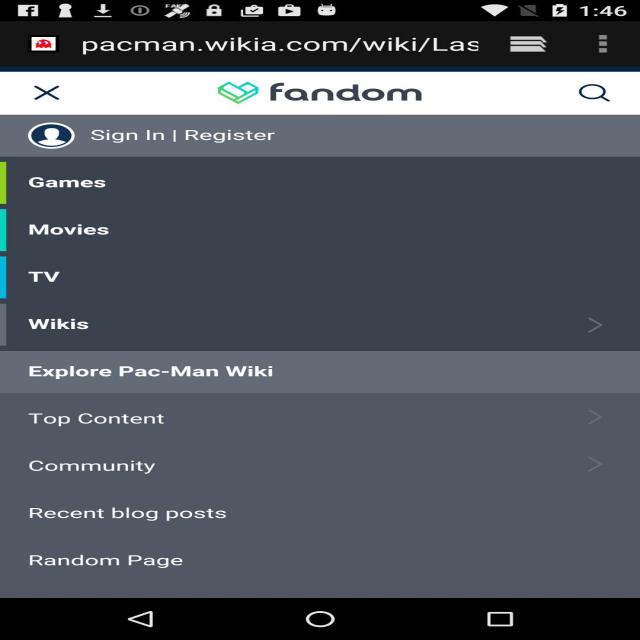button: (104, 597, 193, 640), (466, 600, 565, 632), (286, 600, 365, 633), (23, 73, 84, 113), (563, 83, 619, 104)
image: (184, 78, 453, 109)
text: (67, 26, 587, 76), (14, 116, 299, 152), (12, 487, 267, 526), (14, 358, 308, 389), (18, 404, 225, 436), (16, 540, 212, 572), (16, 448, 195, 478), (18, 162, 144, 198), (21, 213, 131, 242), (26, 310, 128, 337), (31, 257, 82, 303)
